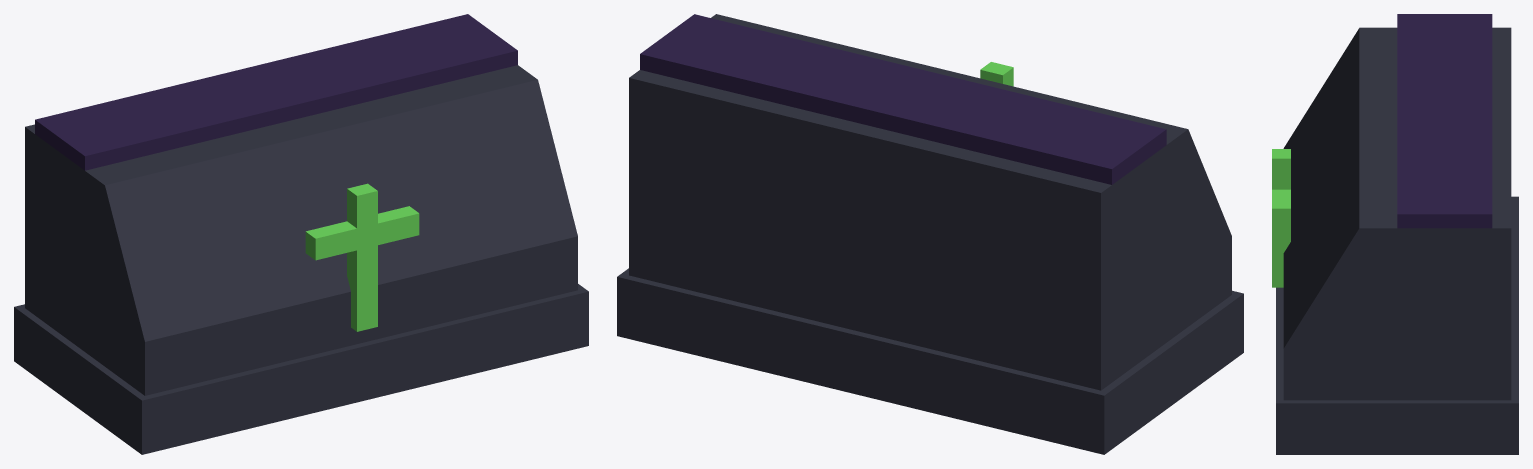
Rendered from barrierB.glb.
3 renders of one model, left to right at view 1: azimuth 30°, elevation 25°; view 2: azimuth 150°, elevation 25°; view 3: azimuth 270°, elevation 25°, orthographic. The views are drawn at different scales.
Visible parts, largest first — view 1: graveyard-barrierB; view 2: graveyard-barrierB; view 3: graveyard-barrierB.
Part boxes in pixels (x1=…): graveyard-barrierB: x1=14, y1=14, x2=588, y2=454; graveyard-barrierB: x1=617, y1=14, x2=1243, y2=454; graveyard-barrierB: x1=1272, y1=14, x2=1518, y2=454.
Size of the model in its own units: 0.258 by 0.138 by 0.13.
